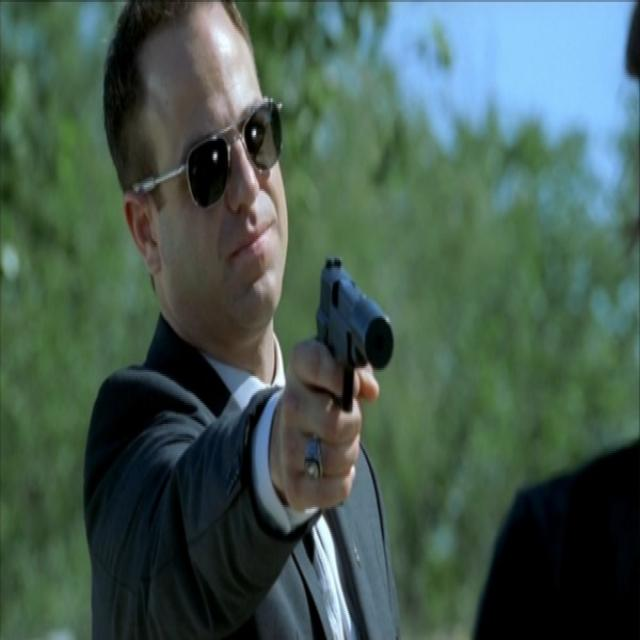weapons: (300, 246, 400, 518)
